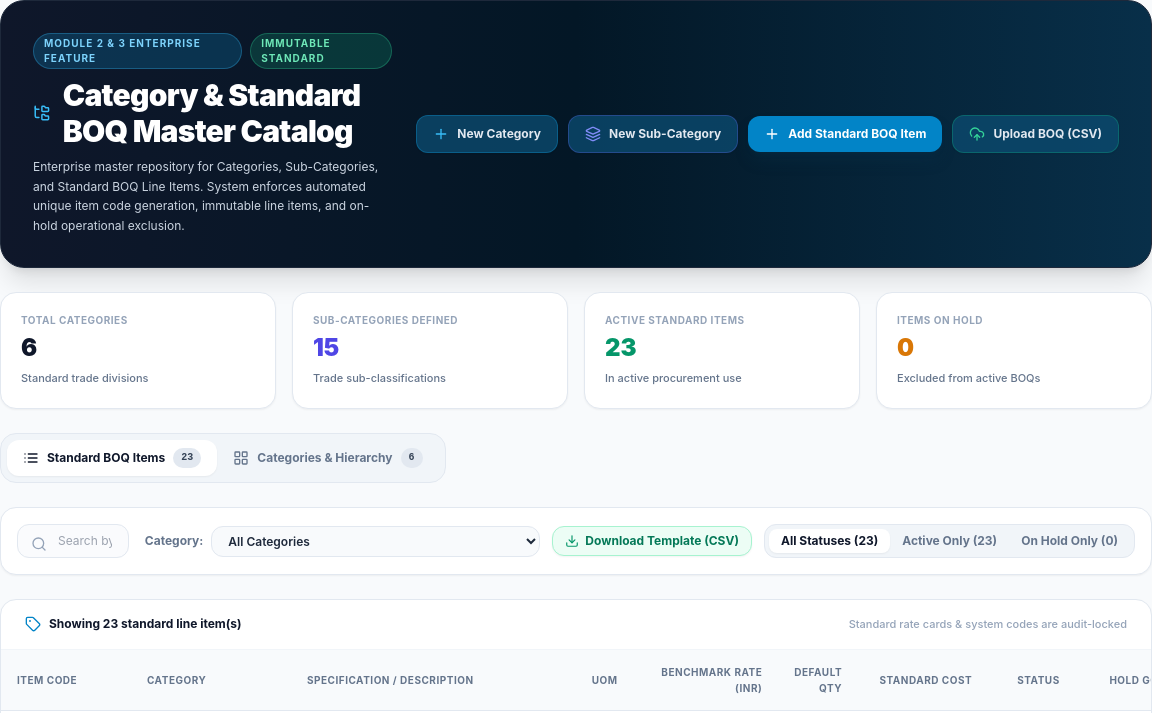
Test: CategoryStandardBOQMaster & Master Catalog Governance › View Mode Switching & Hierarchy Category Cards › switches between items view and categories & hierarchy view
expect the text "Standard BOQ Items" is shown: met, box [47,450,165,466]
expect the column heading "Item Code" is shown: met, box [1,650,131,710]
Note: Switch to hierarchy view
Click the button "Categories & Hierarchy 6": click(328, 458) [217,440,438,476]
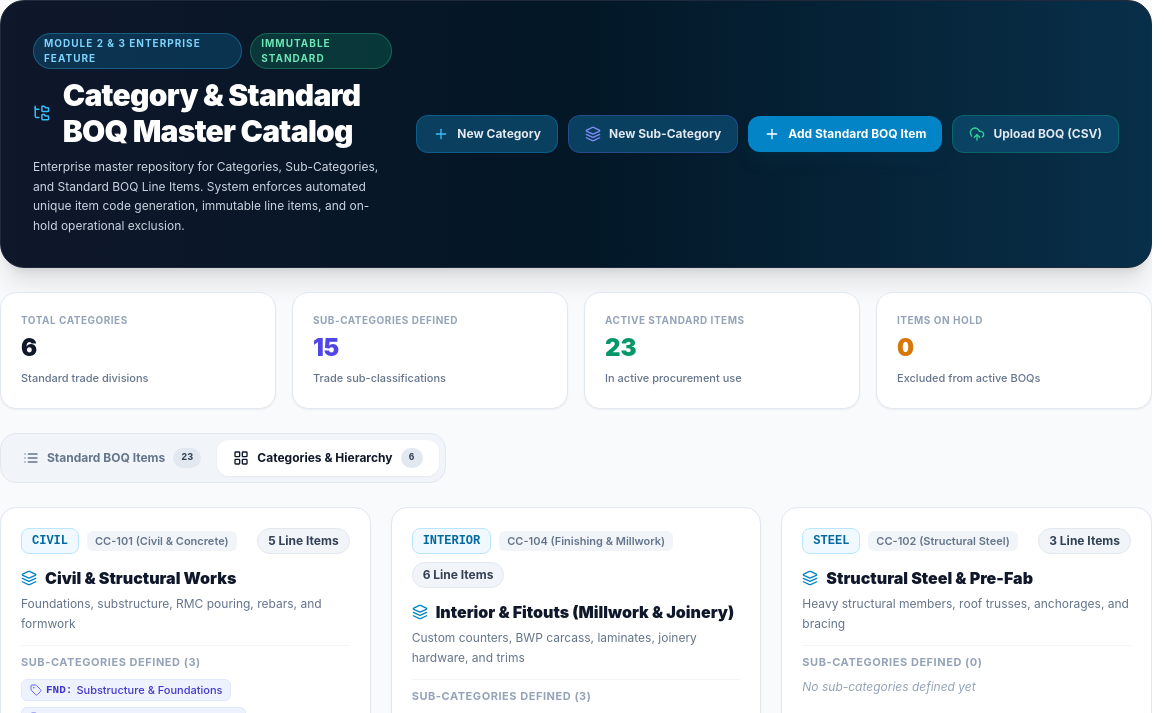
expect the text "Item Code" is not shown: met
expect the text "Civil & Structural Works" is shown: met, box [45,566,236,590]
Note: Switch back to items view
Click the button "Standard BOQ Items 23": click(112, 458) [7,440,217,476]
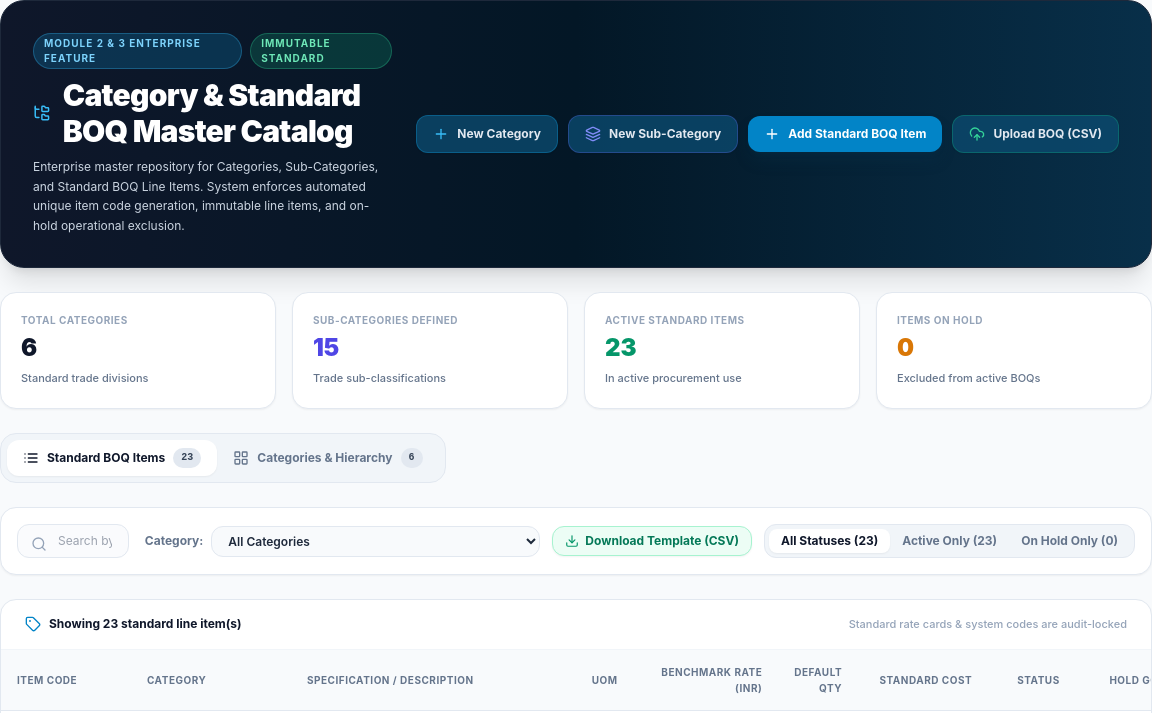
expect the column heading "Item Code" is shown: met, box [1,650,131,710]
